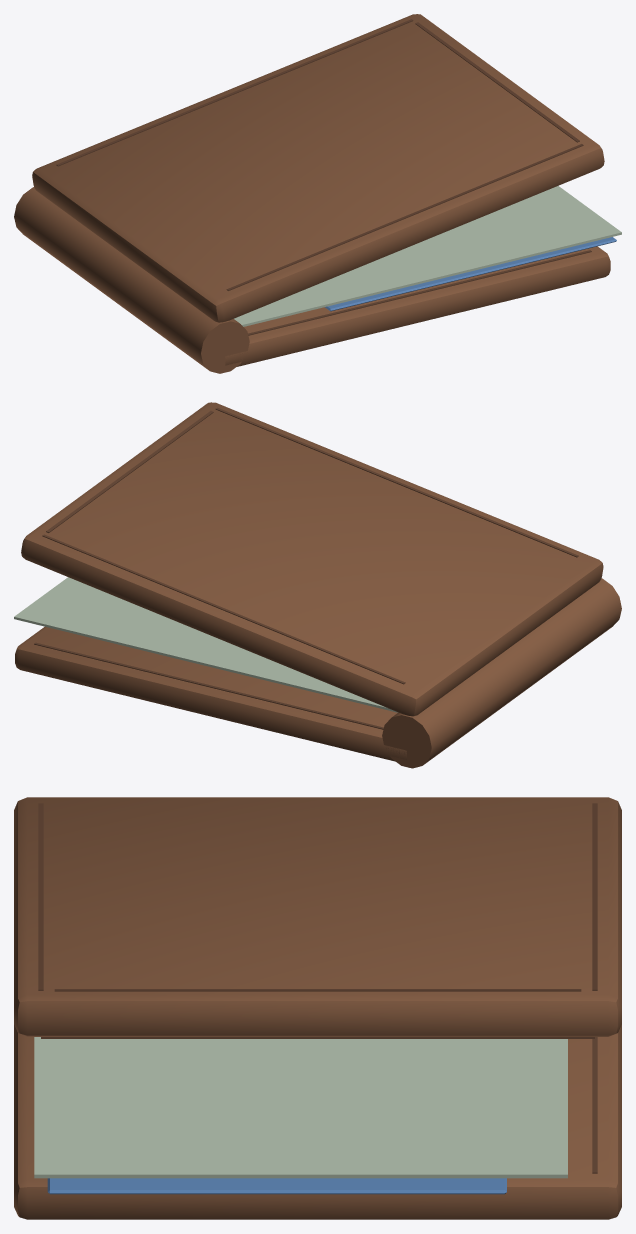
File: Wallet.fbx
3 renders of one model, top to bottom at view 1: azimuth 30°, elevation 25°; view 2: azimuth 150°, elevation 25°; view 3: azimuth 270°, elevation 25°, orthographic. The views are drawn at different scales.
Visible parts, largest first — view 1: Wallet_Mesh; view 2: Wallet_Mesh; view 3: Wallet_Mesh.
Part boxes in pixels (x1,y1,x2,y2): Wallet_Mesh: (14, 14, 621, 373); Wallet_Mesh: (14, 402, 621, 768); Wallet_Mesh: (14, 797, 621, 1219).
Size of the model in its own units: 0.1188 by 0.0356 by 0.09.
